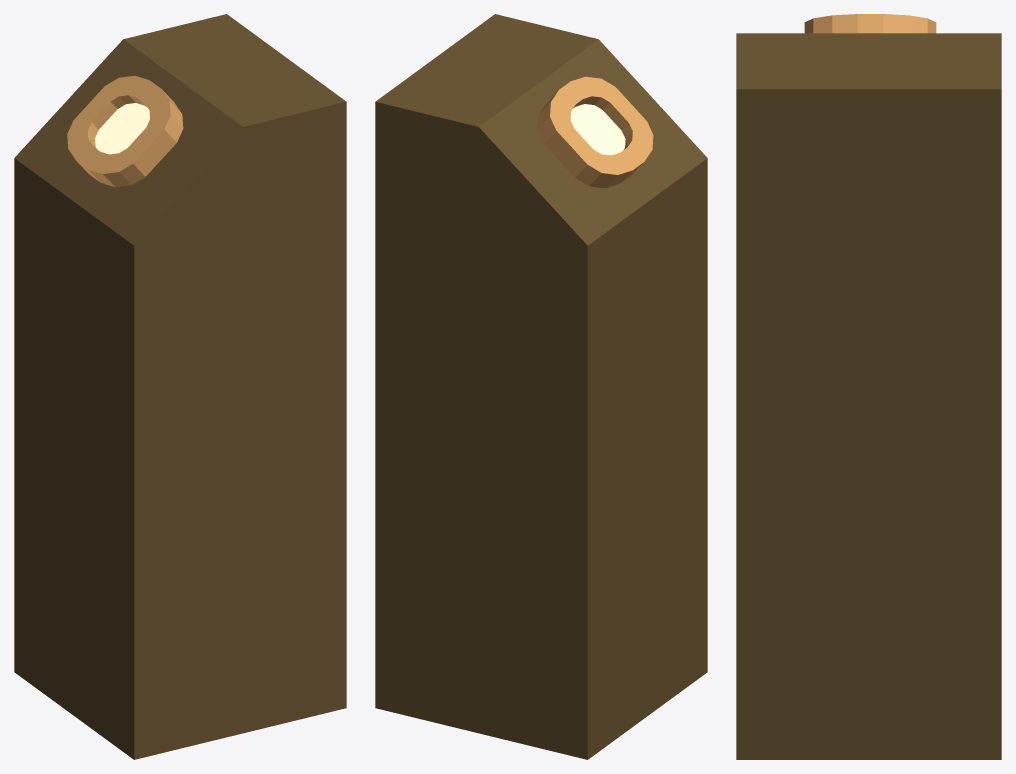
Rendered from Mur-med.fbx.
3 views of the same model, side by side, from view 1: azimuth 30°, elevation 25°; view 2: azimuth 150°, elevation 25°; view 3: azimuth 270°, elevation 25° (orthographic). The views are drawn at different scales.
Parts seen in each view (by area): view 1: Mur-Med; view 2: Mur-Med; view 3: Mur-Med.
Part boxes in pixels (x1=…): Mur-Med: x1=14, y1=14, x2=346, y2=759; Mur-Med: x1=375, y1=14, x2=707, y2=759; Mur-Med: x1=736, y1=14, x2=1001, y2=759.
Bounding box in the file's own units: 276 × 759 × 270.
